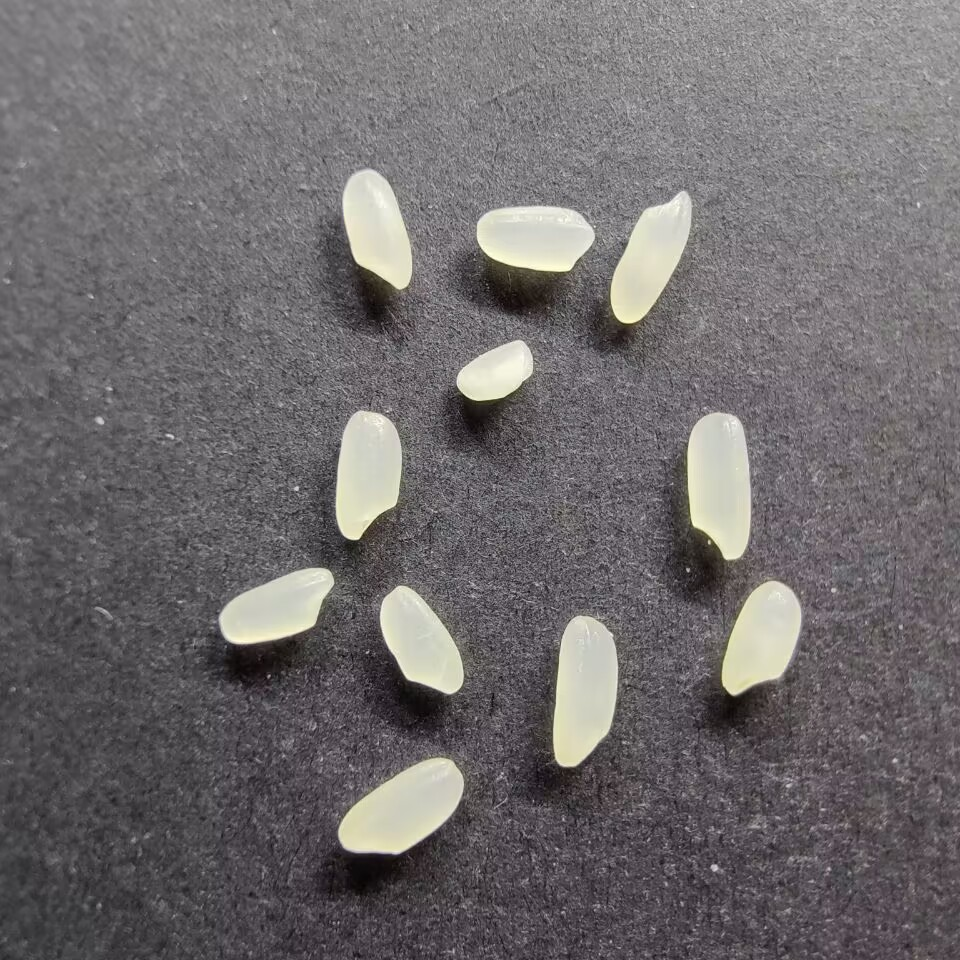broken: (455, 336, 533, 402)
rice: (335, 754, 465, 856), (607, 187, 694, 324), (551, 614, 619, 769), (684, 410, 753, 561), (719, 578, 802, 699), (377, 585, 466, 696), (217, 562, 333, 645), (332, 409, 401, 541), (340, 169, 410, 291), (474, 204, 595, 273)
